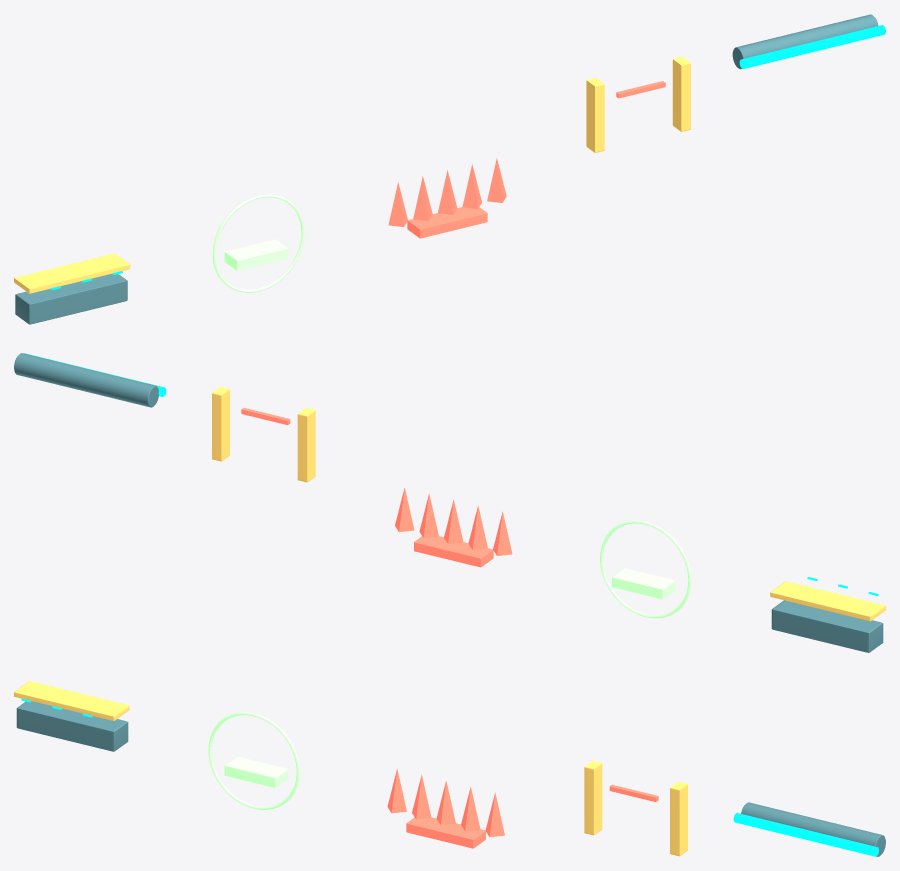
Rendered from cg_platform_traps.glb.
3 renders of one model, top to bottom at view 1: azimuth 30°, elevation 25°; view 2: azimuth 150°, elevation 25°; view 3: azimuth 330°, elevation 25°, orthographic.
Parts seen in each view (by area): view 1: circuit_ground_tile, circuit_ground_gold_edge, background_data_pipe, background_data_pipe_glow, spike_trap_base, packet_laser_post_a, packet_laser_post_b, jump_pad_security_booster, jump_pad_energy_ring; view 2: circuit_ground_tile, background_data_pipe, circuit_ground_gold_edge, spike_trap_base, packet_laser_post_a, jump_pad_security_booster, packet_laser_post_b, jump_pad_energy_ring; view 3: circuit_ground_tile, circuit_ground_gold_edge, background_data_pipe, background_data_pipe_glow, spike_trap_base, packet_laser_post_a, jump_pad_security_booster, packet_laser_post_b, jump_pad_energy_ring, memory_leak_spike_3, memory_leak_spike_0, memory_leak_spike_1 (+2 smaller).
Part boxes in pixels (bbox=[...]): circuit_ground_tile: bbox=[15, 273, 127, 324]; circuit_ground_gold_edge: bbox=[14, 253, 130, 293]; background_data_pipe: bbox=[732, 14, 878, 69]; background_data_pipe_glow: bbox=[739, 25, 885, 68]; spike_trap_base: bbox=[407, 207, 487, 238]; packet_laser_post_a: bbox=[586, 78, 604, 152]; packet_laser_post_b: bbox=[672, 56, 690, 131]; jump_pad_security_booster: bbox=[224, 239, 288, 270]; jump_pad_energy_ring: bbox=[212, 194, 304, 292]; circuit_ground_tile: bbox=[771, 600, 883, 652]; background_data_pipe: bbox=[14, 353, 158, 407]; circuit_ground_gold_edge: bbox=[770, 581, 885, 621]; spike_trap_base: bbox=[414, 536, 493, 567]; packet_laser_post_a: bbox=[297, 408, 315, 482]; jump_pad_security_booster: bbox=[612, 568, 675, 599]; packet_laser_post_b: bbox=[212, 387, 229, 461]; jump_pad_energy_ring: bbox=[600, 520, 691, 618]; circuit_ground_tile: bbox=[16, 701, 128, 751]; circuit_ground_gold_edge: bbox=[14, 681, 129, 720]; background_data_pipe: bbox=[741, 802, 885, 856]; background_data_pipe_glow: bbox=[733, 813, 878, 856]; spike_trap_base: bbox=[406, 817, 485, 848]; packet_laser_post_a: bbox=[584, 760, 602, 835]; jump_pad_security_booster: bbox=[224, 756, 287, 787]; packet_laser_post_b: bbox=[670, 781, 687, 856]; jump_pad_energy_ring: bbox=[208, 712, 299, 809]; memory_leak_spike_3: bbox=[461, 786, 480, 831]; memory_leak_spike_0: bbox=[387, 769, 406, 813]; memory_leak_spike_1: bbox=[412, 775, 431, 819].
Bounding box in the file's own units: 6.98 × 0.972 × 0.3875.
